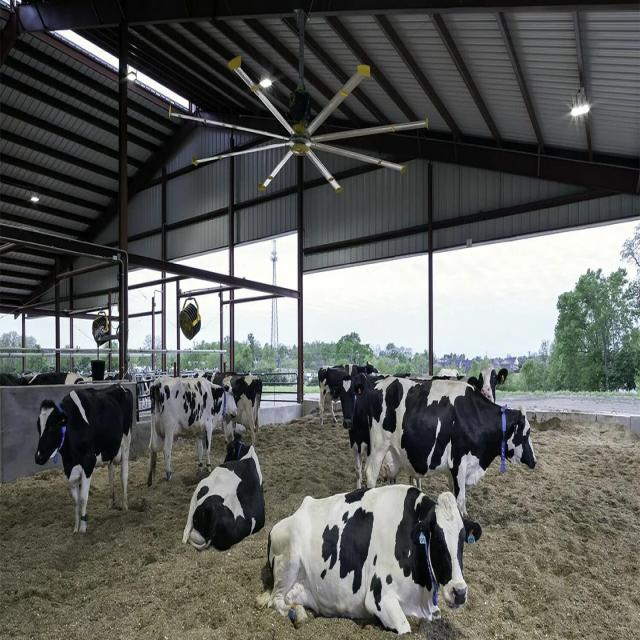cow: (256, 482, 482, 634), (340, 370, 536, 518), (34, 382, 134, 532), (146, 375, 238, 486), (181, 434, 265, 550), (317, 361, 379, 425), (220, 372, 262, 447)
